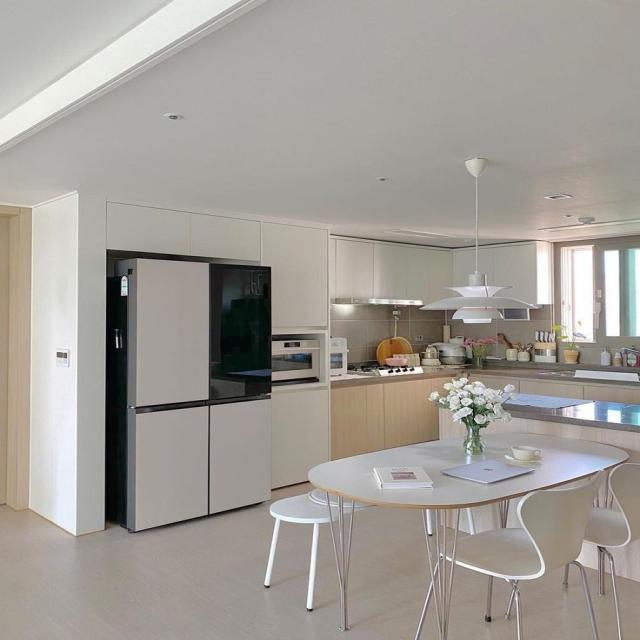obstacle: (306, 431, 630, 638), (105, 254, 273, 533)
